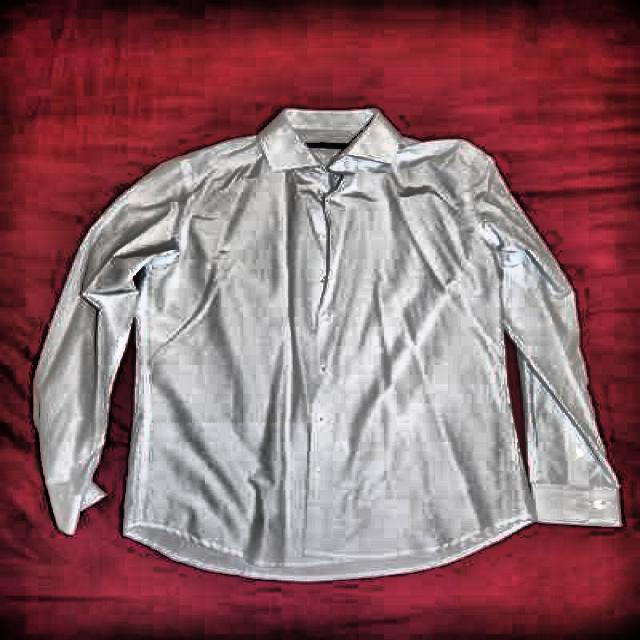clothes: (22, 103, 624, 585)
